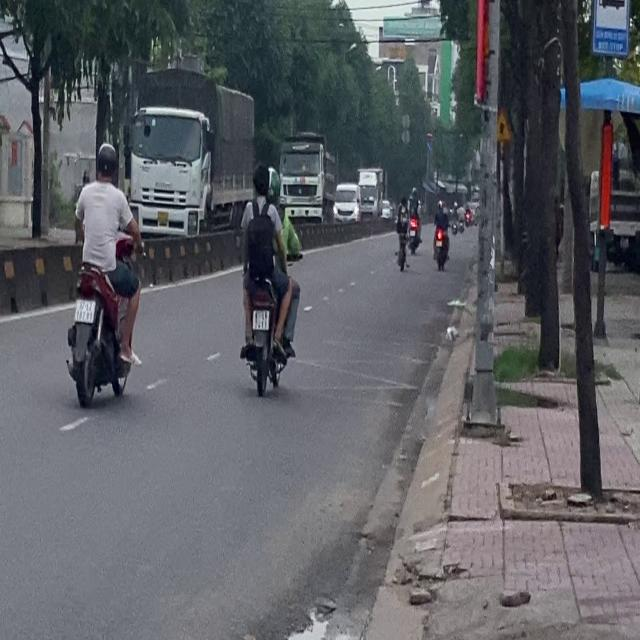helmet: (94, 142, 118, 182), (268, 166, 280, 195)
licenseplate: (66, 140, 141, 407), (236, 161, 299, 394)
motorcyclist: (252, 163, 270, 196)
nohelmet: (74, 299, 94, 321), (253, 310, 269, 329)
